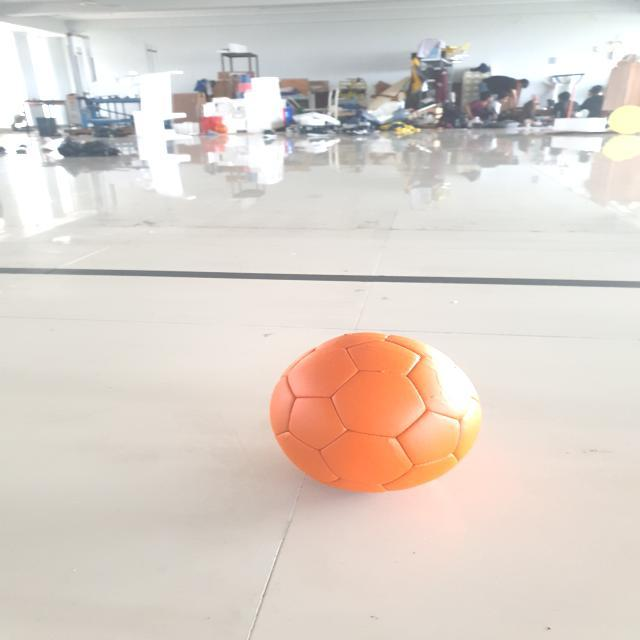bola: (236, 286, 526, 516)
